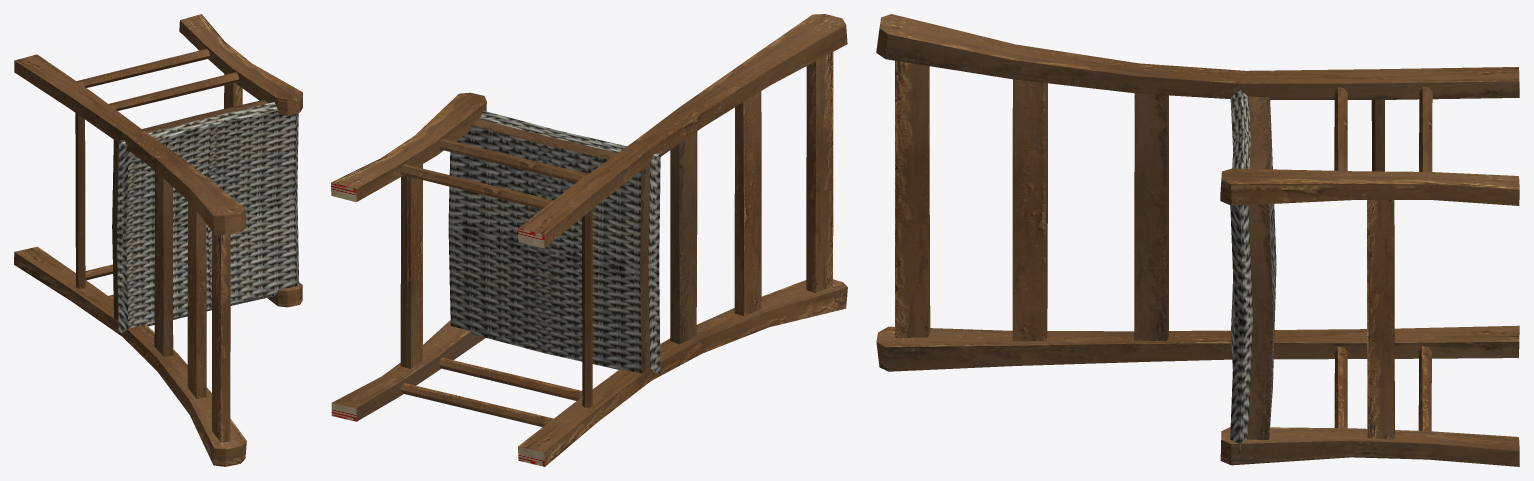
File: Wooden Chair.obj
3 views of the same model, side by side, from view 1: azimuth 30°, elevation 25°; view 2: azimuth 150°, elevation 25°; view 3: azimuth 270°, elevation 25° (orthographic). The views are drawn at different scales.
Parts seen in each view (by area): view 1: Object.1; view 2: Object.1; view 3: Object.1.
Part boxes in pixels (x1,y1,x2,y2): Object.1: [14, 14, 302, 466]; Object.1: [331, 14, 847, 466]; Object.1: [876, 14, 1519, 466].
Size of the model in its own units: 4.93 by 5.36 by 9.2.
Materials: 1 (1 with a texture image).
